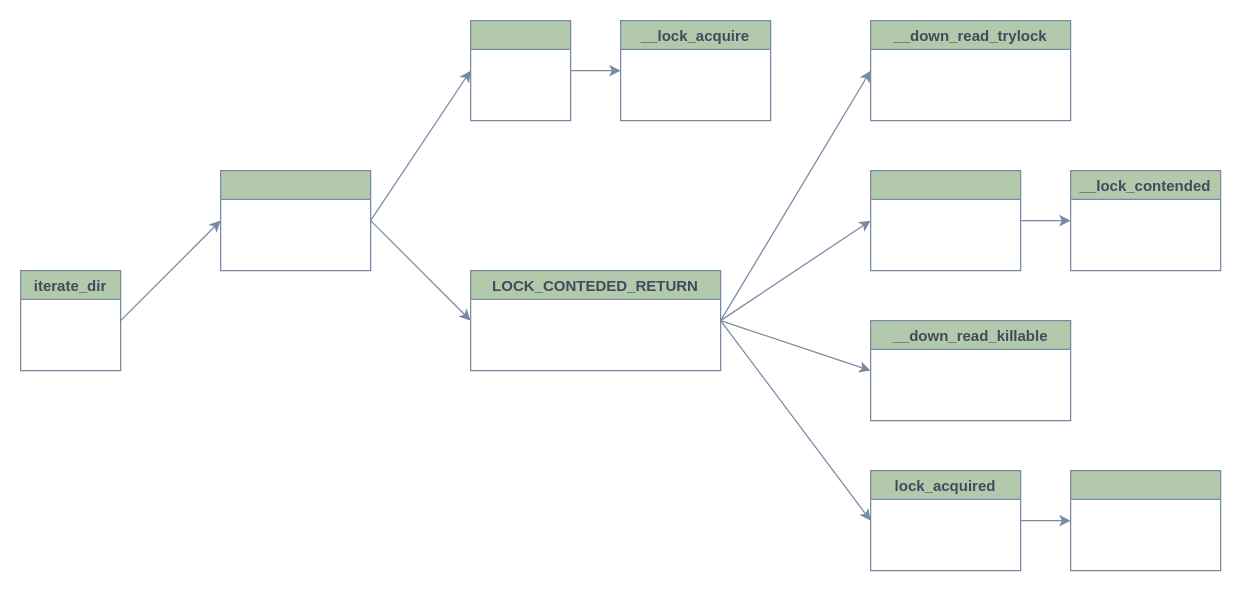
Image size: 1241x591. Some labels were removed from this diagram. Each missing label, with the centre of its shape:
__lock_acquired: the point at 1145,520
down_read_killable: the point at 295,220
lock_acquire: the point at 520,70
lock_conteded: the point at 945,220
